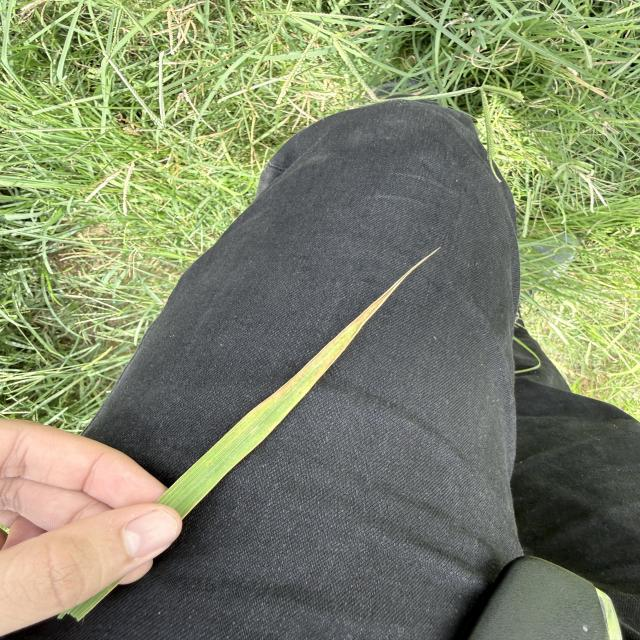Chay bia la: (268, 246, 441, 397)
